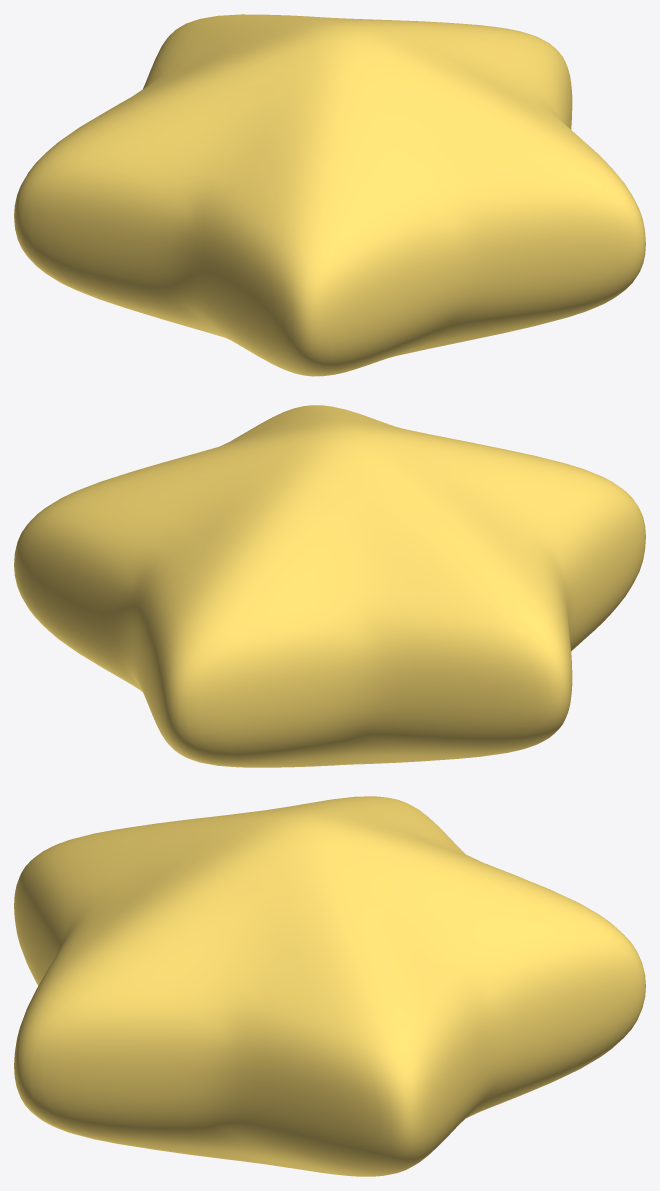
The model's file is 星星糖.glb.
The picture shows the model from 3 angles, top to bottom: view 1: azimuth 30°, elevation 25°; view 2: azimuth 150°, elevation 25°; view 3: azimuth 270°, elevation 25°; orthographic projection. The views are drawn at different scales.
Parts seen in each view (by area): view 1: 柱体; view 2: 柱体; view 3: 柱体.
Boxes of the visible parts, x1,y1,x2,y2 form: 柱体: (14,14,645,376); 柱体: (14,405,645,767); 柱体: (14,796,645,1176).
Bounding box in the file's own units: 1.78 × 0.9787 × 1.7.
